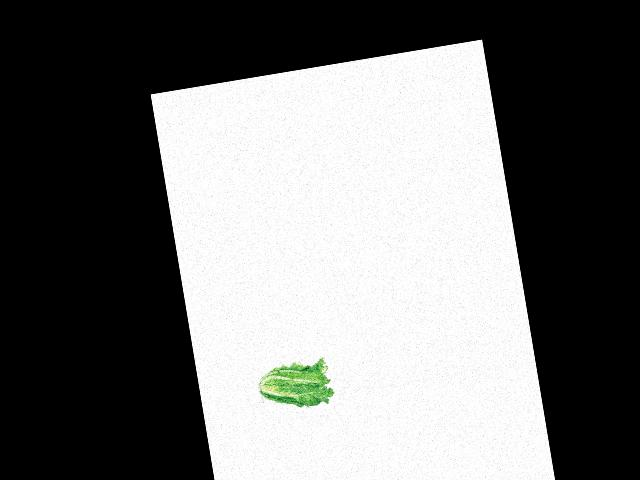lettuce: (256, 354, 336, 414)
